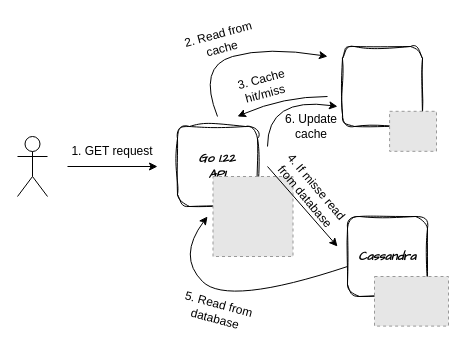
The diagram is 466 pixels wide and 353 high, and some of its shapes have lost their labels. Grey dashed boxes stand in for pictures. The shapes that lost their labels are listed below. From the top down, each one's centre as x and y in pixels, then its label:
At point (382, 86): "Redis".
At point (32, 166): "Actor".
